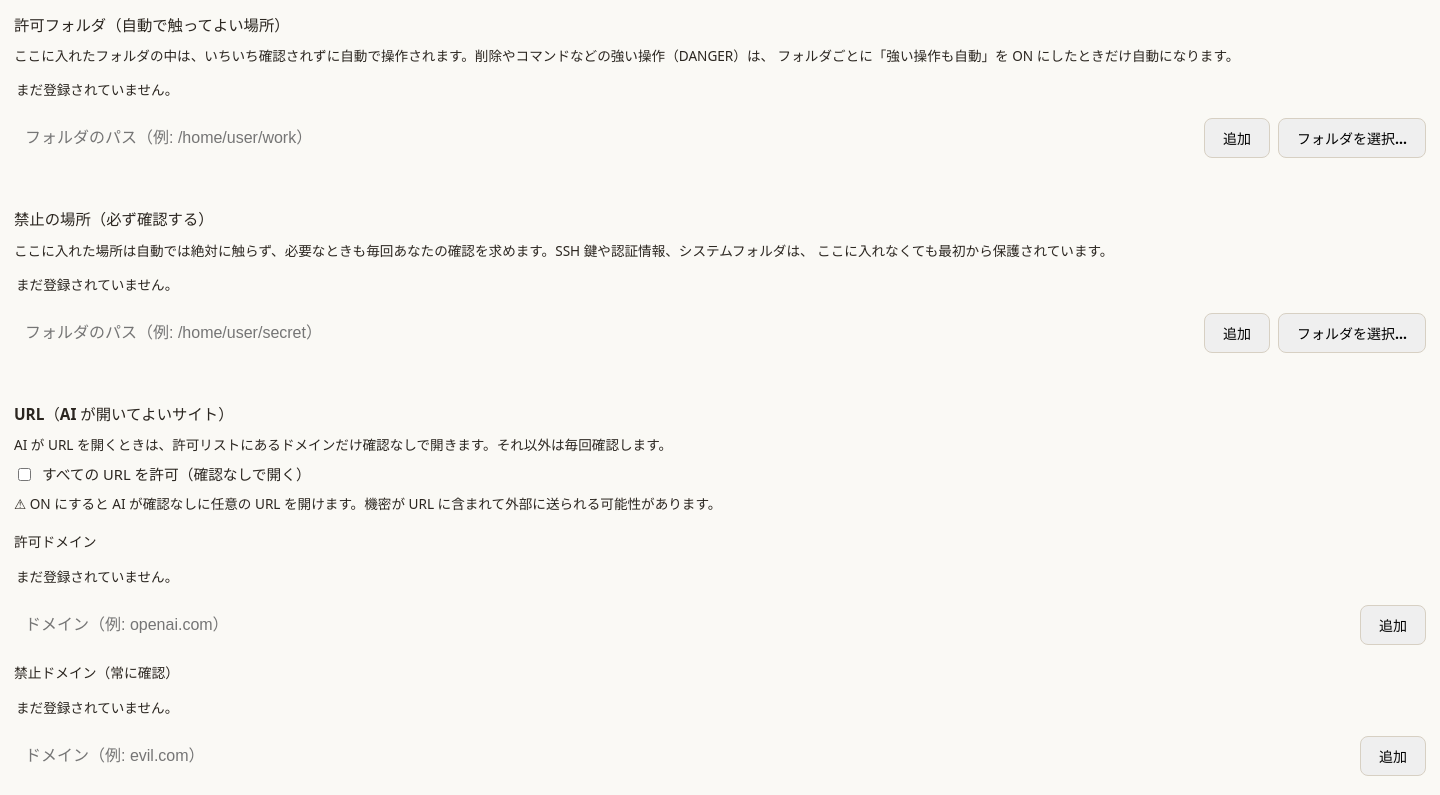
Test: PermissionPolicyEditor › surfaces a save failure as an alert and does not throw
This screenshot has width=1440, height=795.
Type "evil.com" into the field named "禁止ドメイン" at point(683, 756), box [14, 736, 1352, 776]
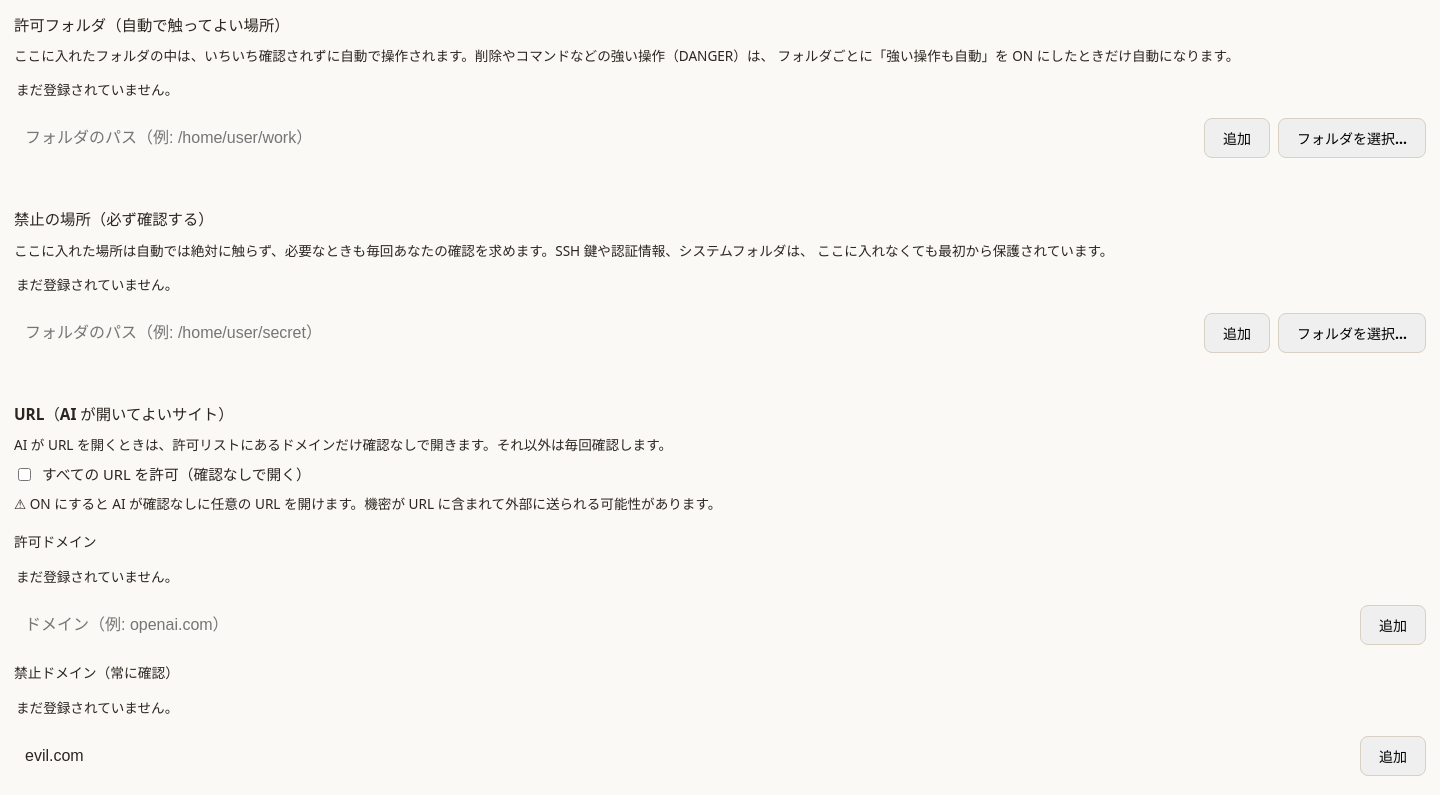
Click the button with aria-label "禁止ドメインを追加" at point(1393, 756), box [1360, 736, 1426, 776]
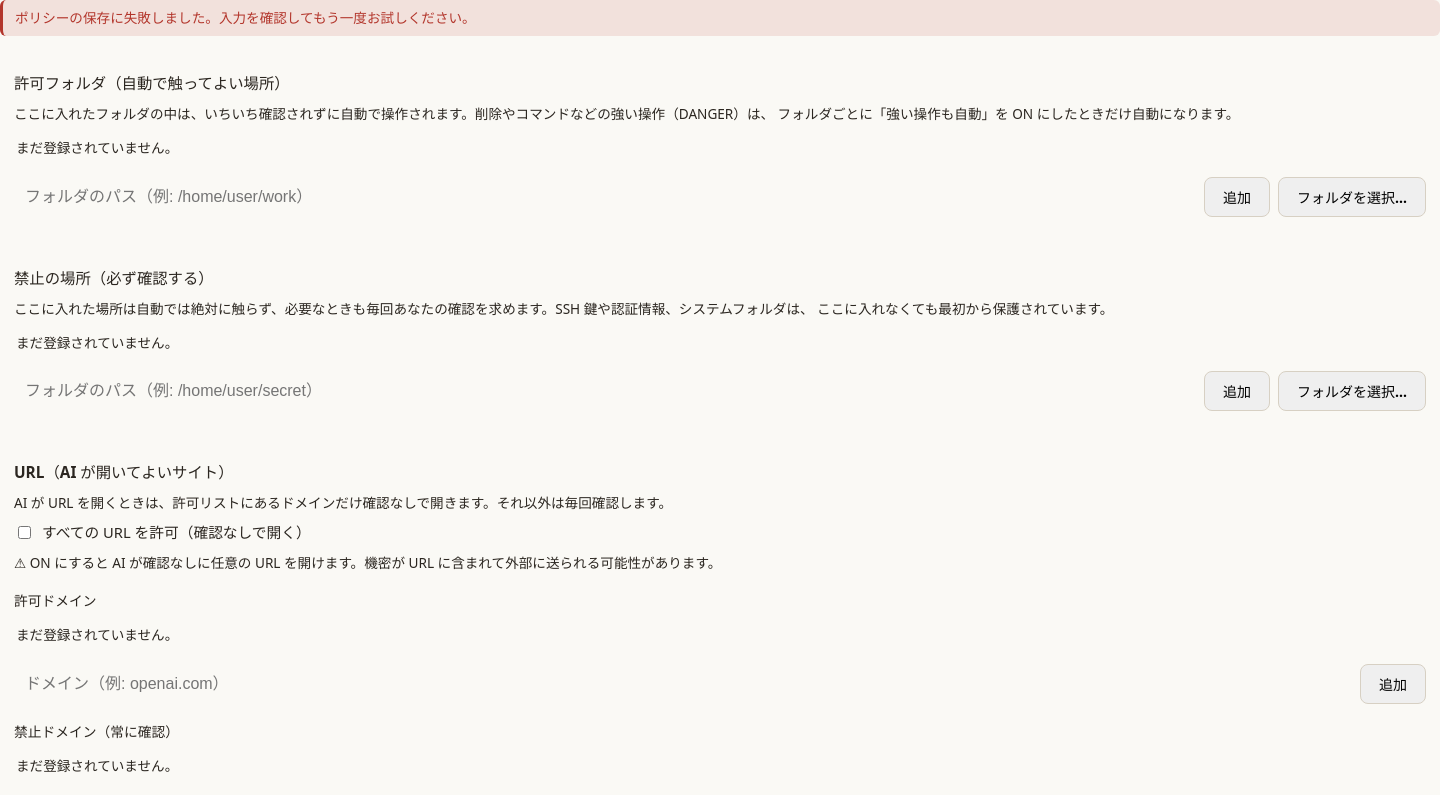
Result: the message shows "ポリシーの保存に失敗" at [15, 8, 476, 27]
